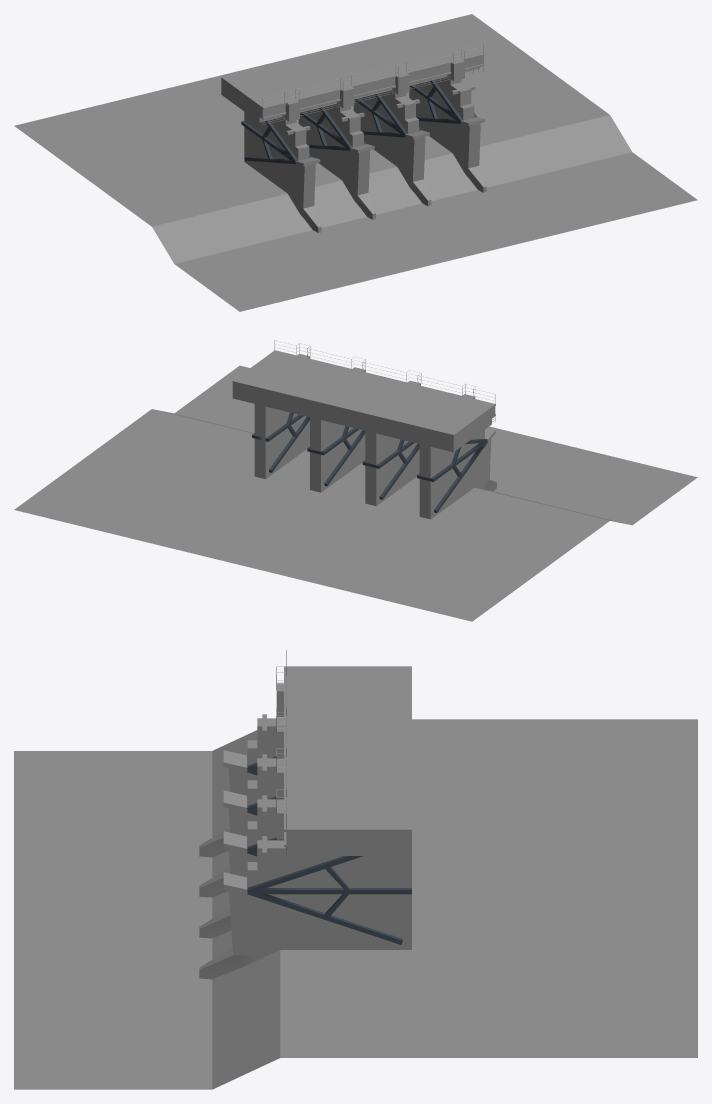
The model's file is dame.fbx.
3 renders of one model, top to bottom at view 1: azimuth 30°, elevation 25°; view 2: azimuth 150°, elevation 25°; view 3: azimuth 270°, elevation 25°, orthographic. The views are drawn at different scales.
Visible parts, largest first — view 1: Plane003, Line001, Object003, Object002, Object, Object001, Box011, Box005, Box007, Box009, Plane001, Plane002; view 2: Plane003, Line001, Object003, Object, Object002, Object001, Box011, Box007, Box009, Box005, Plane001; view 3: Plane003, Line001, Object, Object003, Object002, Object001, Box005.
Part boxes in pixels (<box>): Plane003: <box>14,14,697,311</box>; Line001: <box>221,23,484,122</box>; Object003: <box>244,69,321,232</box>; Object002: <box>298,56,375,219</box>; Object: <box>409,36,486,192</box>; Object001: <box>353,56,431,206</box>; Box011: <box>241,120,311,164</box>; Box005: <box>409,80,476,123</box>; Box007: <box>354,93,421,137</box>; Box009: <box>300,107,366,150</box>; Plane001: <box>262,43,483,107</box>; Plane002: <box>262,66,483,124</box>; Plane003: <box>14,365,697,621</box>; Line001: <box>232,350,495,452</box>; Object003: <box>419,394,496,519</box>; Object: <box>254,354,310,479</box>; Object002: <box>365,381,420,506</box>; Object001: <box>310,367,365,492</box>; Box011: <box>417,439,487,512</box>; Box007: <box>307,426,365,486</box>; Box009: <box>362,439,419,499</box>; Box005: <box>252,412,309,472</box>; Plane001: <box>274,340,495,404</box>; Plane003: <box>14,719,697,1089</box>; Line001: <box>284,666,411,855</box>; Object: <box>199,805,411,979</box>; Object003: <box>199,683,411,857</box>; Object002: <box>199,723,411,897</box>; Object001: <box>199,764,379,938</box>; Box005: <box>247,856,411,944</box>.
Bounding box in the file's own units: 1658 × 436 × 1415.
